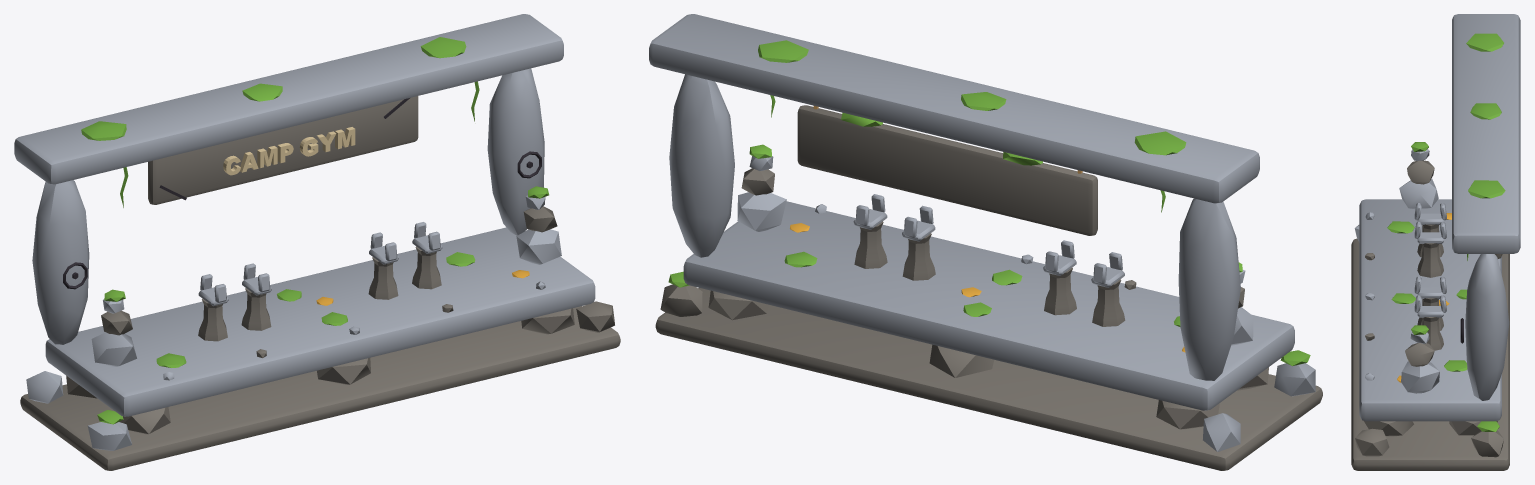
File: st_02_stone.glb
3 renders of one model, left to right at view 1: azimuth 30°, elevation 25°; view 2: azimuth 150°, elevation 25°; view 3: azimuth 270°, elevation 25°, orthographic. The views are drawn at different scales.
Parts seen in each view (by area): view 1: st_02_stone; view 2: st_02_stone; view 3: st_02_stone.
Boxes of the visible parts, x1,y1,x2,y2 form: st_02_stone: [14, 14, 620, 470]; st_02_stone: [649, 14, 1322, 470]; st_02_stone: [1351, 14, 1520, 470].
Size of the model in its own units: 10.08 by 5.09 by 3.2.
